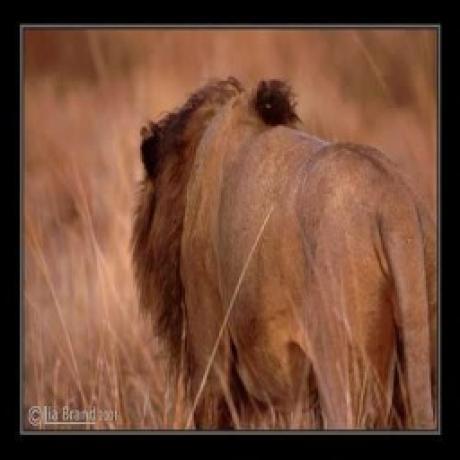Lion: (132, 73, 437, 433)
